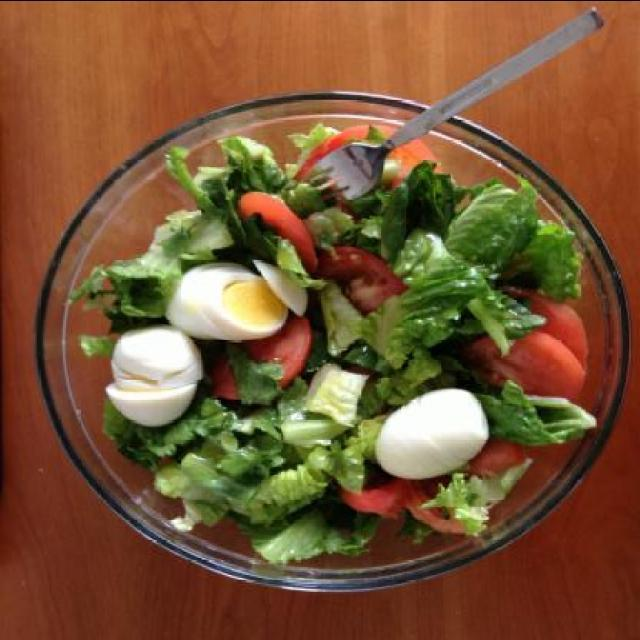Salad: (57, 120, 601, 572)
